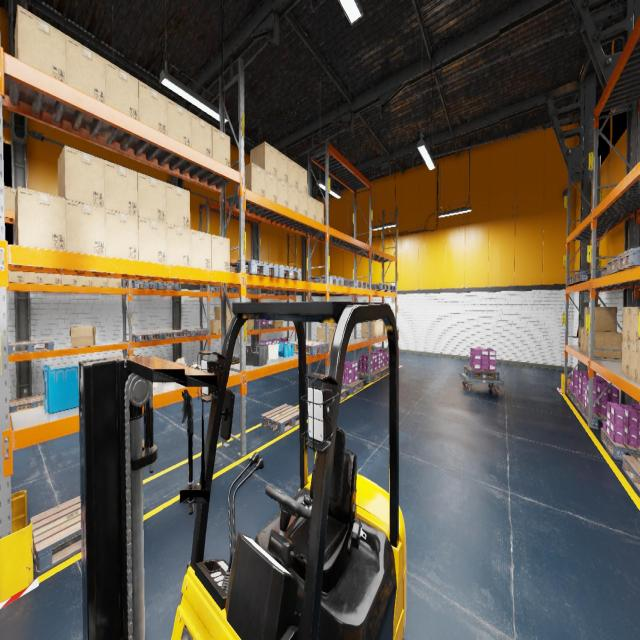box: (15, 5, 66, 84), (15, 187, 66, 251), (58, 145, 104, 208), (66, 34, 106, 103), (66, 199, 105, 256), (105, 60, 139, 120), (104, 160, 138, 216), (105, 209, 138, 260), (138, 80, 167, 135), (137, 172, 166, 224), (138, 217, 166, 264), (167, 98, 190, 147), (166, 182, 190, 228), (190, 112, 212, 158), (167, 224, 190, 267), (587, 331, 622, 359), (237, 162, 265, 197), (250, 142, 277, 177), (190, 229, 211, 269), (584, 307, 617, 331), (212, 126, 230, 167), (211, 235, 230, 271), (584, 329, 610, 354), (69, 326, 96, 347), (316, 326, 336, 348), (629, 343, 639, 383), (630, 307, 640, 345), (265, 171, 277, 202), (277, 150, 288, 183), (621, 341, 630, 378), (277, 178, 288, 207), (622, 307, 631, 342), (288, 158, 298, 189), (298, 165, 308, 194), (4, 186, 16, 210), (288, 184, 298, 212), (298, 190, 308, 216), (361, 322, 376, 338), (23, 272, 43, 283), (43, 273, 61, 285), (308, 195, 316, 220), (61, 274, 78, 285), (215, 306, 227, 320), (9, 270, 23, 282), (316, 200, 323, 223), (576, 327, 584, 347), (78, 276, 93, 286), (210, 320, 220, 334), (94, 277, 108, 287), (108, 278, 121, 287), (176, 357, 188, 366), (379, 320, 386, 334), (580, 329, 584, 352), (220, 320, 227, 333), (272, 320, 283, 328), (638, 345, 640, 384), (227, 306, 233, 319), (323, 322, 337, 327), (248, 319, 253, 330), (376, 322, 379, 336), (192, 364, 200, 369), (227, 319, 231, 328), (380, 321, 382, 336), (153, 382, 157, 388), (246, 319, 248, 331)
forklift: (78, 302, 406, 640)
pallets: (30, 495, 81, 575), (600, 428, 640, 460), (261, 404, 299, 434), (230, 260, 278, 276), (622, 454, 640, 492), (9, 393, 44, 412), (257, 265, 301, 280), (8, 340, 54, 354), (290, 340, 329, 356), (582, 404, 606, 426), (617, 248, 640, 270), (464, 366, 499, 380), (574, 270, 600, 283), (342, 379, 364, 394), (312, 276, 344, 286), (358, 369, 382, 382), (132, 332, 163, 342), (607, 257, 624, 275), (156, 330, 186, 339), (127, 281, 157, 289), (181, 328, 207, 337), (567, 274, 587, 284), (156, 282, 178, 290), (349, 280, 366, 289), (574, 394, 582, 412), (367, 284, 389, 290), (377, 366, 389, 376), (344, 278, 355, 288), (202, 286, 220, 292), (568, 387, 575, 402), (254, 324, 273, 329), (383, 284, 396, 291), (340, 388, 347, 401), (600, 265, 607, 277), (278, 290, 294, 295), (266, 290, 285, 294), (226, 287, 238, 293), (246, 289, 256, 294), (237, 359, 240, 362)
